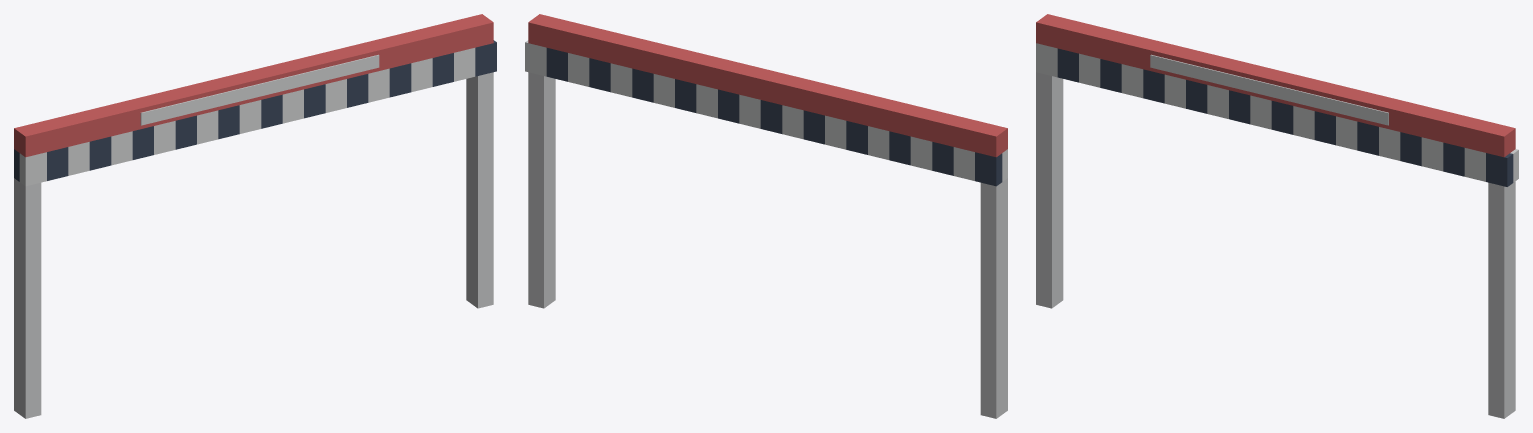
The model's file is start_arch.glb.
The picture shows the model from 3 angles, left to right: view 1: azimuth 30°, elevation 25°; view 2: azimuth 150°, elevation 25°; view 3: azimuth 330°, elevation 25°; orthographic projection.
Parts seen in each view (by area): view 1: arch; view 2: arch; view 3: arch.
Part boxes in pixels (left/top/right/bottom): arch: left=14, top=14, right=496, bottom=418; arch: left=525, top=14, right=1007, bottom=418; arch: left=1036, top=14, right=1518, bottom=418.
Size of the model in its own units: 14.85 by 8.5 by 0.6625.
